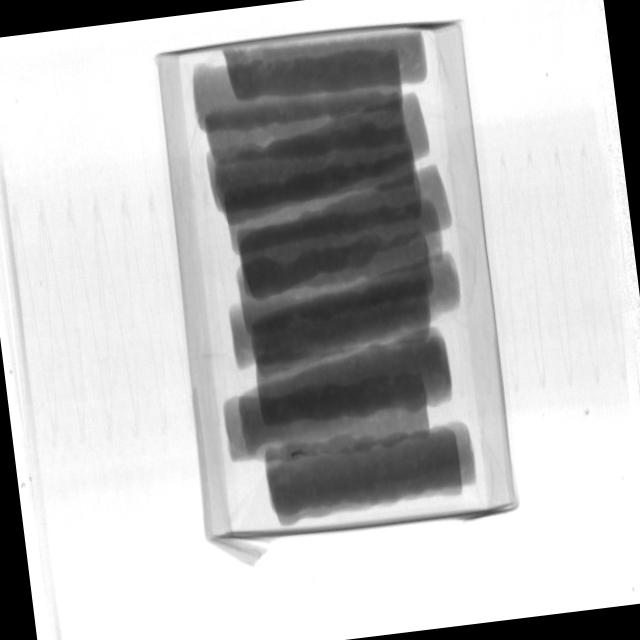ym: (292, 450, 308, 459)
